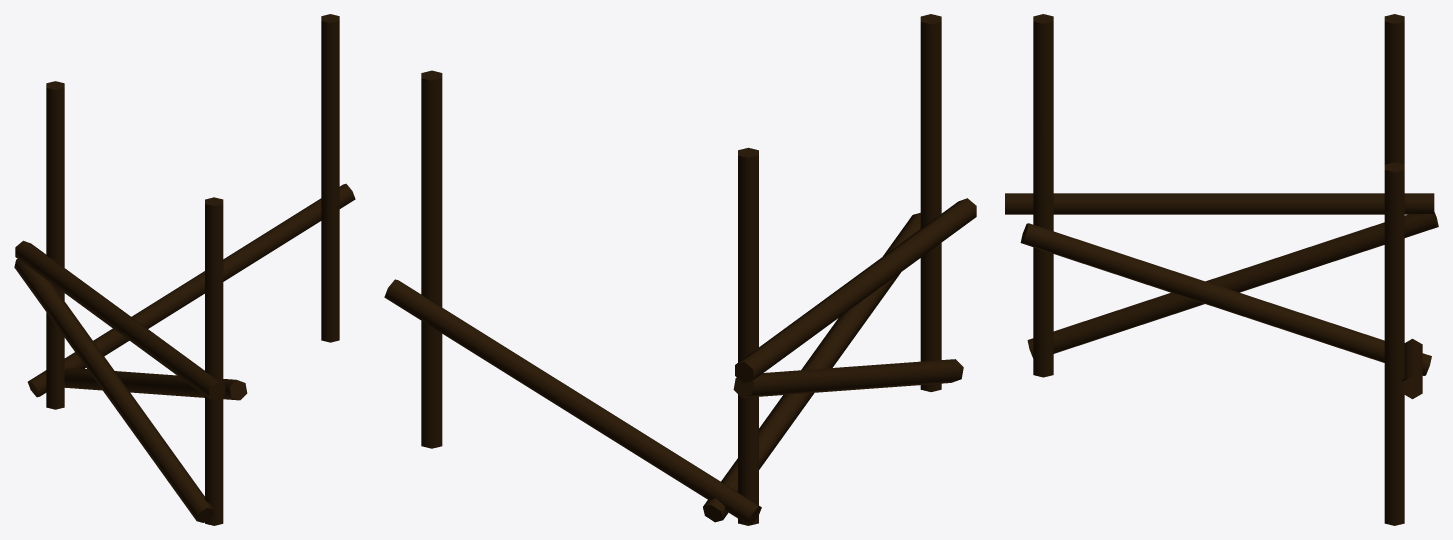
File: BuildingSite3.obj
3 views of the same model, side by side, from view 1: azimuth 30°, elevation 25°; view 2: azimuth 150°, elevation 25°; view 3: azimuth 270°, elevation 25° (orthographic). The views are drawn at different scales.
Parts seen in each view (by area): view 1: Cylinder135, Cylinder120, Cylinder122, Cylinder129, Cylinder136, Cylinder119, Cylinder134; view 2: Cylinder129, Cylinder120, Cylinder122, Cylinder136, Cylinder119, Cylinder135, Cylinder134; view 3: Cylinder136, Cylinder134, Cylinder135, Cylinder120, Cylinder122, Cylinder119, Cylinder129.
Boxes of the visible parts, <box> form: Cylinder135: <box>14,259,214,522</box>; Cylinder120: <box>321,14,339,342</box>; Cylinder122: <box>205,197,223,525</box>; Cylinder129: <box>27,183,355,397</box>; Cylinder136: <box>15,240,225,401</box>; Cylinder119: <box>46,81,64,409</box>; Cylinder134: <box>64,367,247,400</box>; Cylinder129: <box>384,279,761,525</box>; Cylinder120: <box>421,70,442,448</box>; Cylinder122: <box>920,14,941,391</box>; Cylinder136: <box>735,198,976,383</box>; Cylinder119: <box>738,147,758,525</box>; Cylinder135: <box>733,359,963,397</box>; Cylinder134: <box>703,213,920,522</box>; Cylinder136: <box>1005,193,1434,214</box>; Cylinder134: <box>1020,223,1431,375</box>; Cylinder135: <box>1027,212,1438,358</box>; Cylinder120: <box>1384,162,1404,525</box>; Cylinder122: <box>1033,14,1053,377</box>; Cylinder119: <box>1384,14,1404,164</box>; Cylinder129: <box>1402,338,1422,399</box>.
Bounding box in the file's own units: 10.72 × 10 × 11.11.
